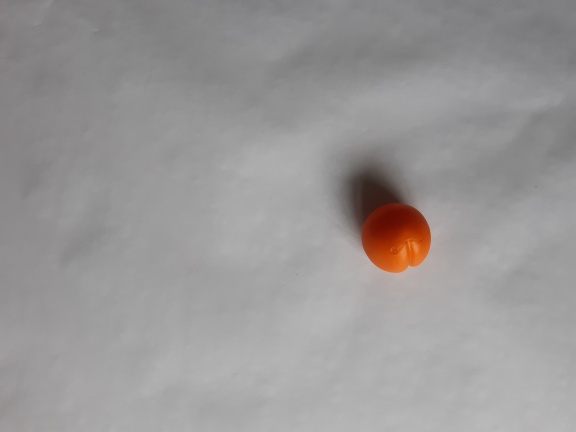apricot: (356, 195, 438, 280)
